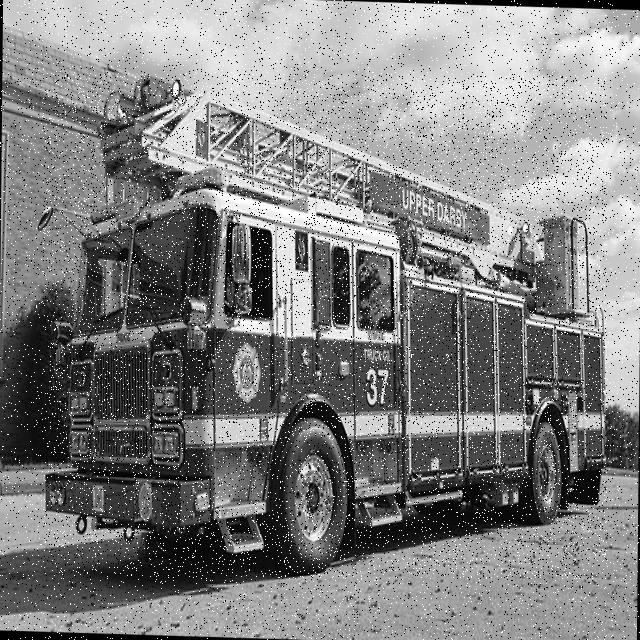Fire Truck: (43, 74, 607, 579)
